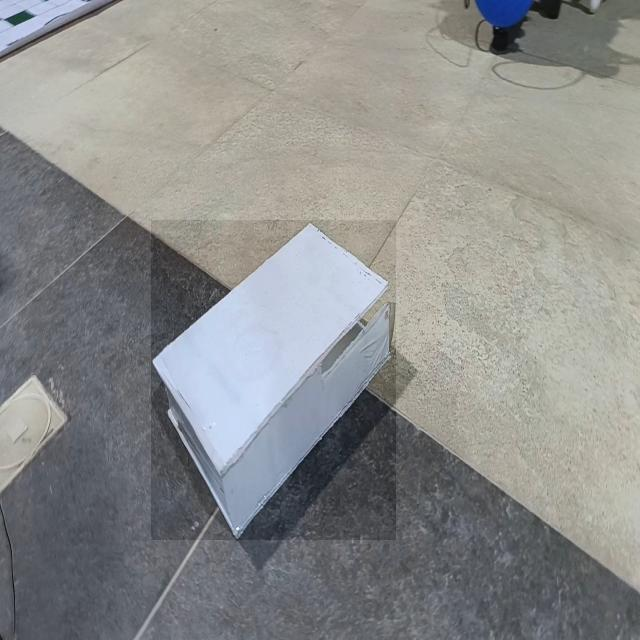Cuboid: (151, 220, 396, 540)
